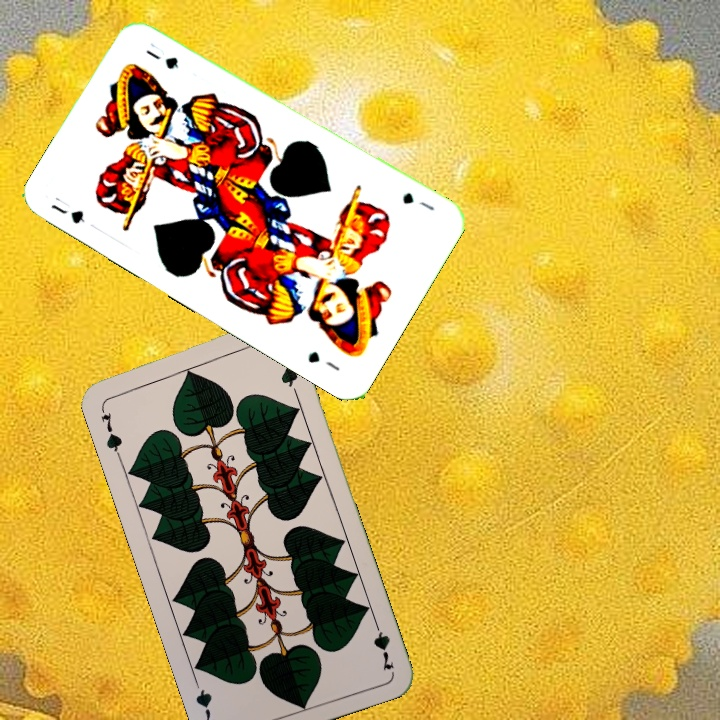G7: (96, 402, 125, 459), (369, 615, 397, 673)
GU: (47, 192, 88, 227), (398, 188, 437, 213)
